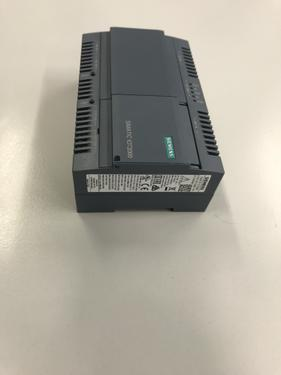device: (72, 27, 226, 214)
